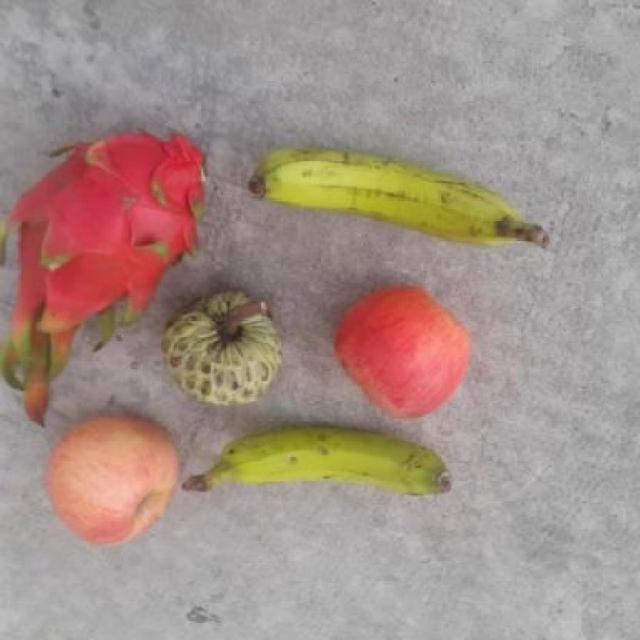apple: (325, 273, 473, 422), (43, 411, 186, 551)
banana: (240, 141, 512, 253), (200, 422, 452, 512)
dragon fruit: (10, 128, 208, 342)
sugar apple: (158, 284, 278, 408)
